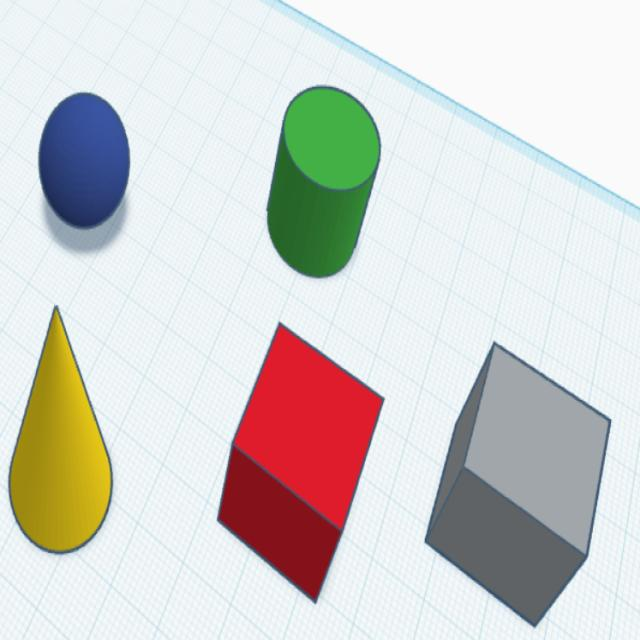cone: (6, 302, 116, 559)
cube: (422, 338, 614, 631), (214, 316, 388, 607)
sphere: (34, 91, 132, 233)
